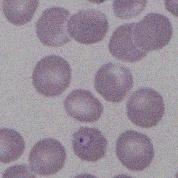Infected: (71, 126, 107, 161)
Uninfected: (94, 63, 134, 102), (115, 131, 154, 171), (126, 87, 164, 128), (109, 24, 148, 63), (134, 12, 174, 50), (33, 55, 70, 96), (37, 7, 74, 47), (67, 8, 107, 45), (65, 89, 103, 123), (29, 138, 66, 172), (0, 127, 25, 162), (4, 0, 38, 25)
